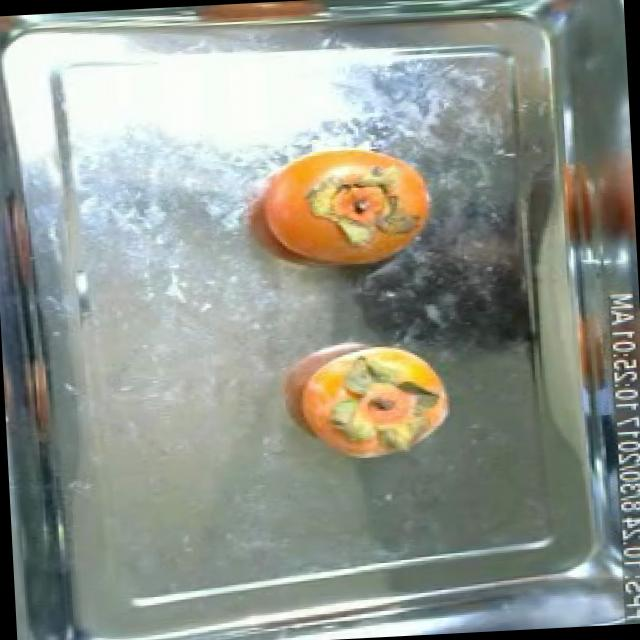Fruit: (246, 136, 447, 288), (272, 332, 464, 474)
